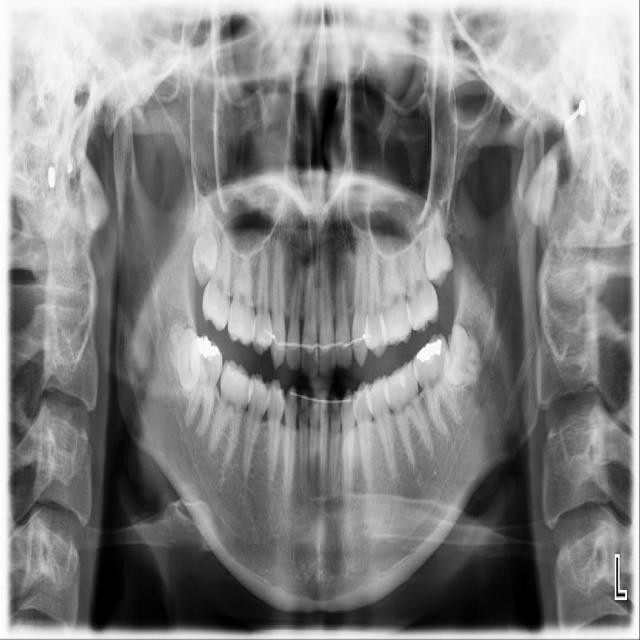Filling: (414, 337, 444, 364), (198, 337, 220, 361)
impacted tooth: (442, 323, 484, 384), (191, 196, 217, 284), (423, 205, 453, 281), (168, 321, 200, 392)
